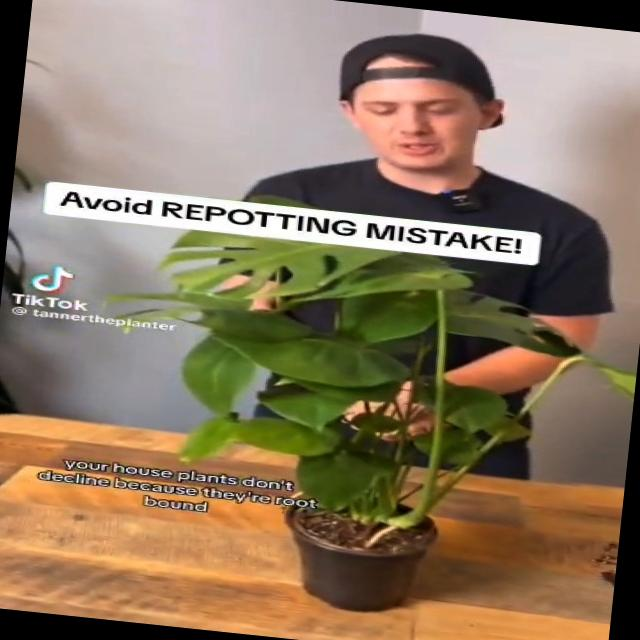roslina_zdrowa: (157, 230, 636, 528)
